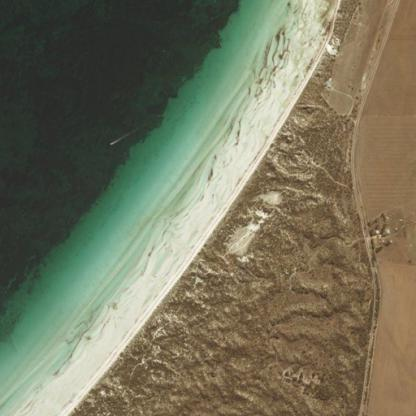ship: (107, 124, 109, 126)
